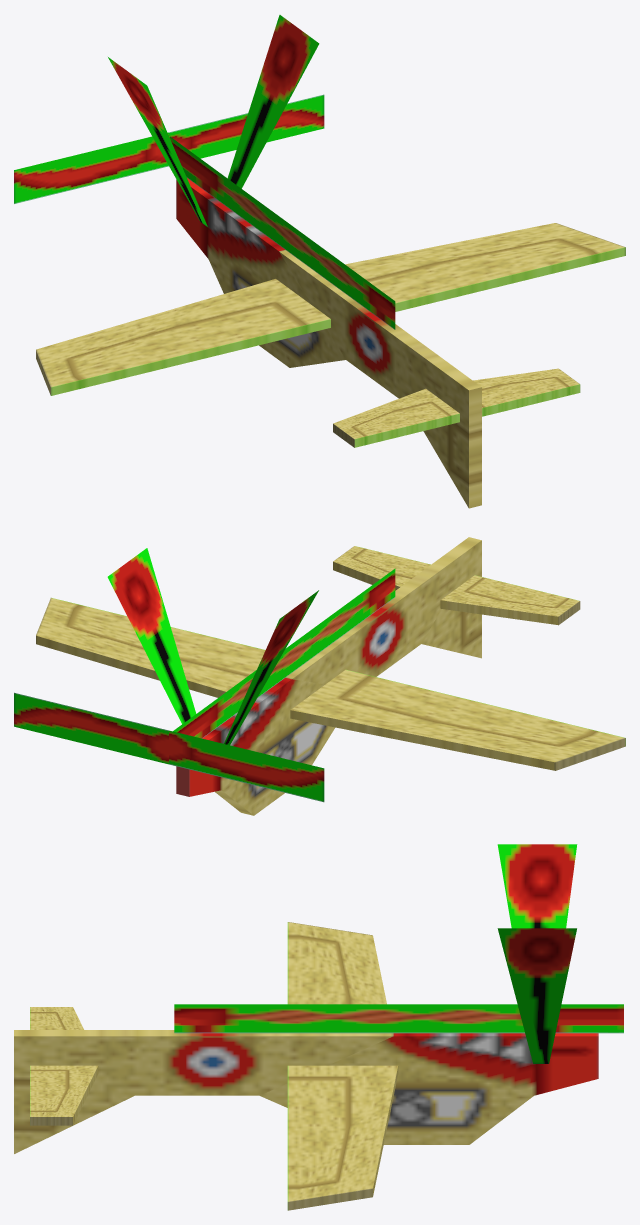
Rendered from BPLANE.obj.
The picture shows the model from 3 angles, top to bottom: view 1: azimuth 30°, elevation 25°; view 2: azimuth 150°, elevation 25°; view 3: azimuth 270°, elevation 25°; orthographic projection.
Visible parts, largest first — view 1: BPLANE_node00_face05, BPLANE_node00_face01, BPLANE_node01_face00, BPLANE_node00_face02, BPLANE_node00_face04, BPLANE_node00_face00, BPLANE_node00_face03; view 2: BPLANE_node00_face05, BPLANE_node00_face01, BPLANE_node01_face00, BPLANE_node00_face04, BPLANE_node00_face02, BPLANE_node00_face00, BPLANE_node00_face03; view 3: BPLANE_node00_face01, BPLANE_node00_face05, BPLANE_node00_face02, BPLANE_node00_face00, BPLANE_node00_face04, BPLANE_node00_face03.
Boxes of the visible parts, left/top/right/bottom form: BPLANE_node00_face05: left=36, top=223, right=625, bottom=447; BPLANE_node00_face01: left=176, top=178, right=481, bottom=508; BPLANE_node01_face00: left=14, top=94, right=324, bottom=203; BPLANE_node00_face02: left=170, top=136, right=395, bottom=329; BPLANE_node00_face04: left=227, top=15, right=319, bottom=188; BPLANE_node00_face00: left=209, top=251, right=468, bottom=507; BPLANE_node00_face03: left=108, top=57, right=207, bottom=226; BPLANE_node00_face05: left=36, top=546, right=625, bottom=770; BPLANE_node00_face01: left=176, top=537, right=481, bottom=815; BPLANE_node01_face00: left=14, top=692, right=324, bottom=802; BPLANE_node00_face04: left=107, top=548, right=196, bottom=724; BPLANE_node00_face02: left=173, top=568, right=395, bottom=738; BPLANE_node00_face00: left=222, top=540, right=481, bottom=789; BPLANE_node00_face03: left=224, top=590, right=318, bottom=745; BPLANE_node00_face01: left=14, top=1030, right=598, bottom=1144; BPLANE_node00_face05: left=30, top=922, right=398, bottom=1210; BPLANE_node00_face02: left=174, top=1004, right=623, bottom=1033; BPLANE_node00_face00: left=14, top=1036, right=532, bottom=1153; BPLANE_node00_face04: left=497, top=928, right=576, bottom=1063; BPLANE_node00_face03: left=497, top=844, right=577, bottom=928.
Bounding box in the file's own units: 708 × 312 × 653.
